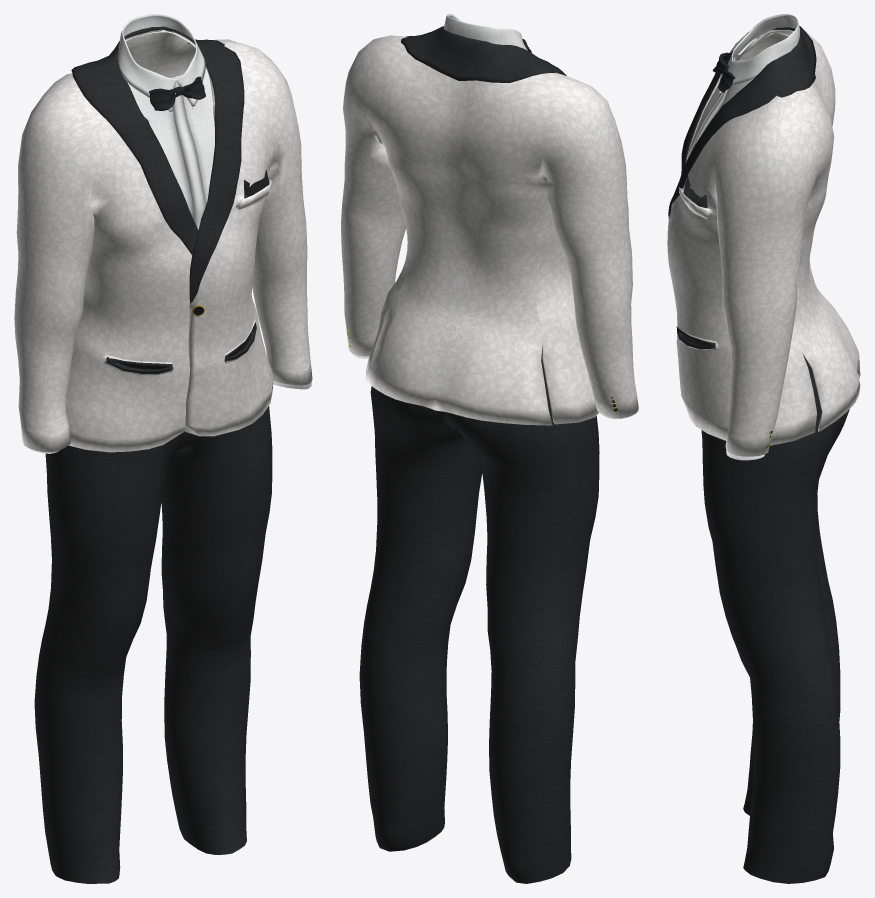
Rendered from full_dinner_suit.gltf.
3 views of the same model, side by side, from view 1: azimuth 30°, elevation 25°; view 2: azimuth 150°, elevation 25°; view 3: azimuth 270°, elevation 25° (orthographic). The views are drawn at different scales.
Parts seen in each view (by area): view 1: full_dinner_suit; view 2: full_dinner_suit; view 3: full_dinner_suit.
Boxes of the visible parts, bbox=[...] form: full_dinner_suit: bbox=[14, 14, 312, 883]; full_dinner_suit: bbox=[341, 14, 638, 883]; full_dinner_suit: bbox=[667, 14, 860, 883].
Size of the model in its own units: 0.4977 by 1.4 by 0.2987.
Materials: 1 (1 with a texture image).
